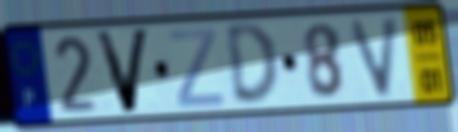2: (52, 33, 100, 116)
8: (300, 20, 347, 102)
D: (222, 20, 283, 109)
V: (91, 26, 154, 117), (345, 13, 404, 101)
Z: (165, 26, 226, 111)
